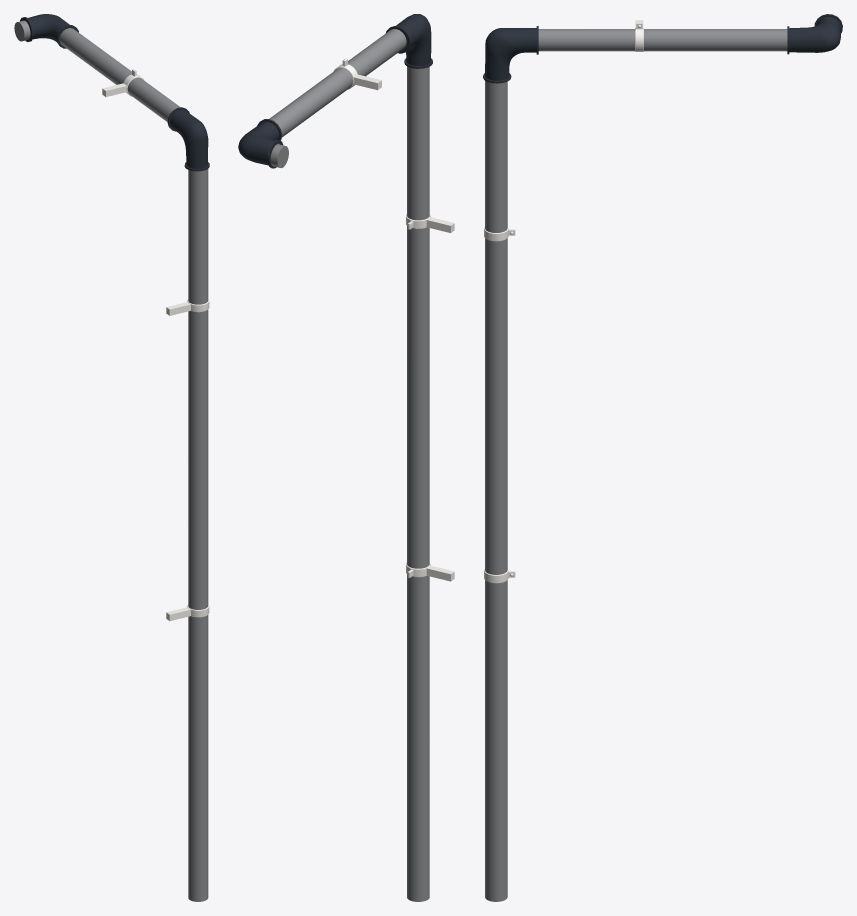
The model's file is Tuyau_V4.fbx.
3 views of the same model, side by side, from view 1: azimuth 30°, elevation 25°; view 2: azimuth 150°, elevation 25°; view 3: azimuth 270°, elevation 25° (orthographic). The views are drawn at different scales.
Visible parts, largest first — view 1: Tuyau_V4, Tuyau_colonne1, TuyauTourne, TuyauTourne2; view 2: Tuyau_V4, Tuyau_colonne1, TuyauTourne, TuyauTourne2, Cercle1, Cercle, Cercle2; view 3: Tuyau_V4, Tuyau_colonne1, TuyauTourne, TuyauTourne2.
Part boxes in pixels (<box>): Tuyau_V4: <box>188,169,208,901</box>; Tuyau_colonne1: <box>59,28,180,121</box>; TuyauTourne: <box>167,107,209,171</box>; TuyauTourne2: <box>20,14,78,48</box>; Tuyau_V4: <box>407,66,429,901</box>; Tuyau_colonne1: <box>269,29,406,137</box>; TuyauTourne: <box>386,14,432,68</box>; TuyauTourne2: <box>238,119,283,168</box>; Cercle1: <box>406,562,454,581</box>; Cercle: <box>406,214,454,232</box>; Cercle2: <box>333,58,381,90</box>; Tuyau_V4: <box>485,80,507,901</box>; Tuyau_colonne1: <box>538,29,787,51</box>; TuyauTourne: <box>483,26,538,83</box>; TuyauTourne2: <box>787,14,842,54</box>.
Bounding box in the file's own units: 0.1302 × 2.35 × 0.8758.
Materials: 1 (1 with a texture image).
